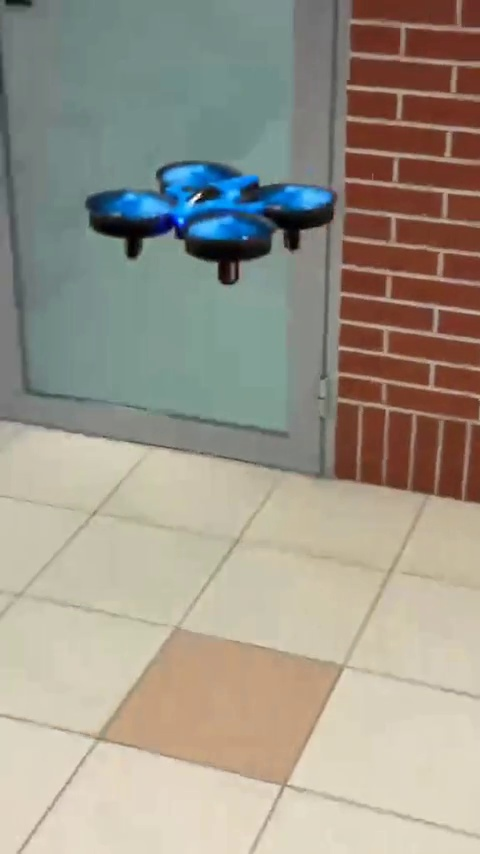drone: (87, 156, 339, 282)
